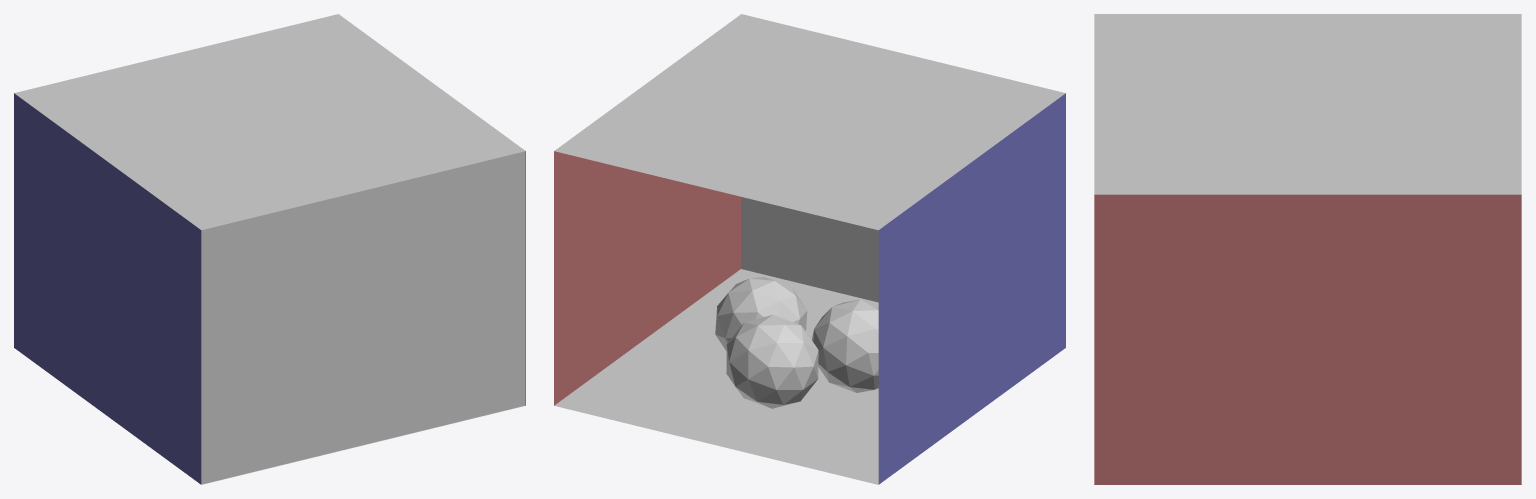
The model's file is CBgems.dae.
3 views of the same model, side by side, from view 1: azimuth 30°, elevation 25°; view 2: azimuth 150°, elevation 25°; view 3: azimuth 270°, elevation 25° (orthographic). The views are drawn at different scales.
Visible parts, largest first — view 1: backWall, ceiling, rightWall; view 2: ceiling, rightWall, leftWall, floor, backWall, Icosphere_001, Icosphere_002, Icosphere_003; view 3: leftWall, ceiling.
Boxes of the visible parts, x1,y1,x2,y2 form: backWall: [201, 151, 525, 484]; ceiling: [14, 14, 525, 230]; rightWall: [14, 93, 201, 484]; ceiling: [554, 14, 1065, 230]; rightWall: [878, 93, 1065, 484]; leftWall: [554, 151, 740, 405]; floor: [554, 269, 878, 484]; backWall: [741, 197, 878, 302]; Icosphere_001: [726, 315, 818, 408]; Icosphere_002: [812, 299, 878, 392]; Icosphere_003: [715, 277, 807, 350]; leftWall: [1094, 194, 1521, 484]; ceiling: [1094, 14, 1521, 194].
Bounding box in the file's own units: 2 × 2 × 1.5.
